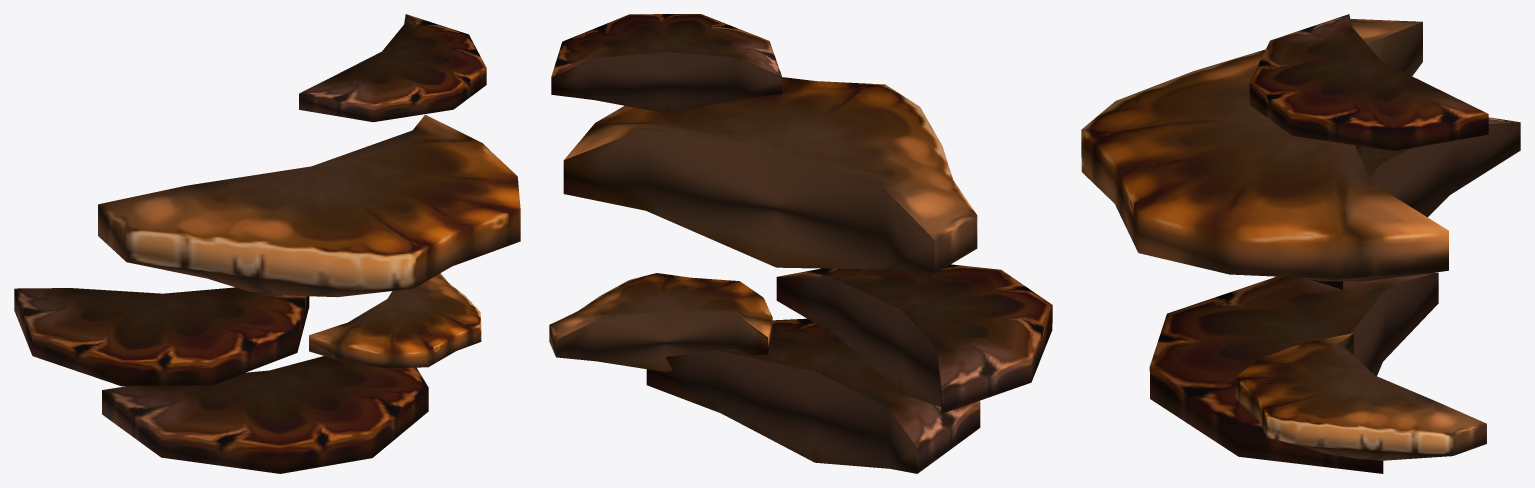
File: Mushroom21.fbx
3 renders of one model, left to right at view 1: azimuth 30°, elevation 25°; view 2: azimuth 150°, elevation 25°; view 3: azimuth 270°, elevation 25°, orthographic. The views are drawn at different scales.
Parts seen in each view (by area): view 1: Mushroom21; view 2: Mushroom21; view 3: Mushroom21.
Boxes of the visible parts, x1,y1,x2,y2 form: Mushroom21: [14, 14, 520, 473]; Mushroom21: [549, 14, 1052, 473]; Mushroom21: [1081, 14, 1520, 473].
Size of the model in its own units: 1.99 by 1.58 by 1.36.
